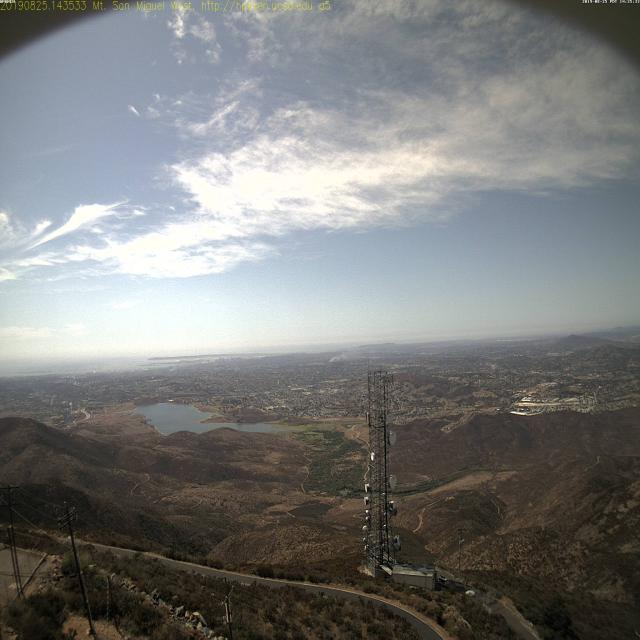smoke: (324, 348, 350, 367)
